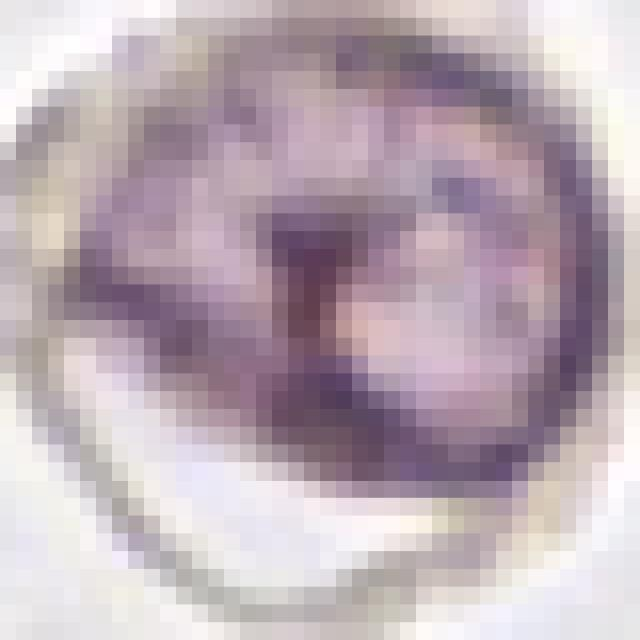cytoplasm: (0, 0, 624, 622)
